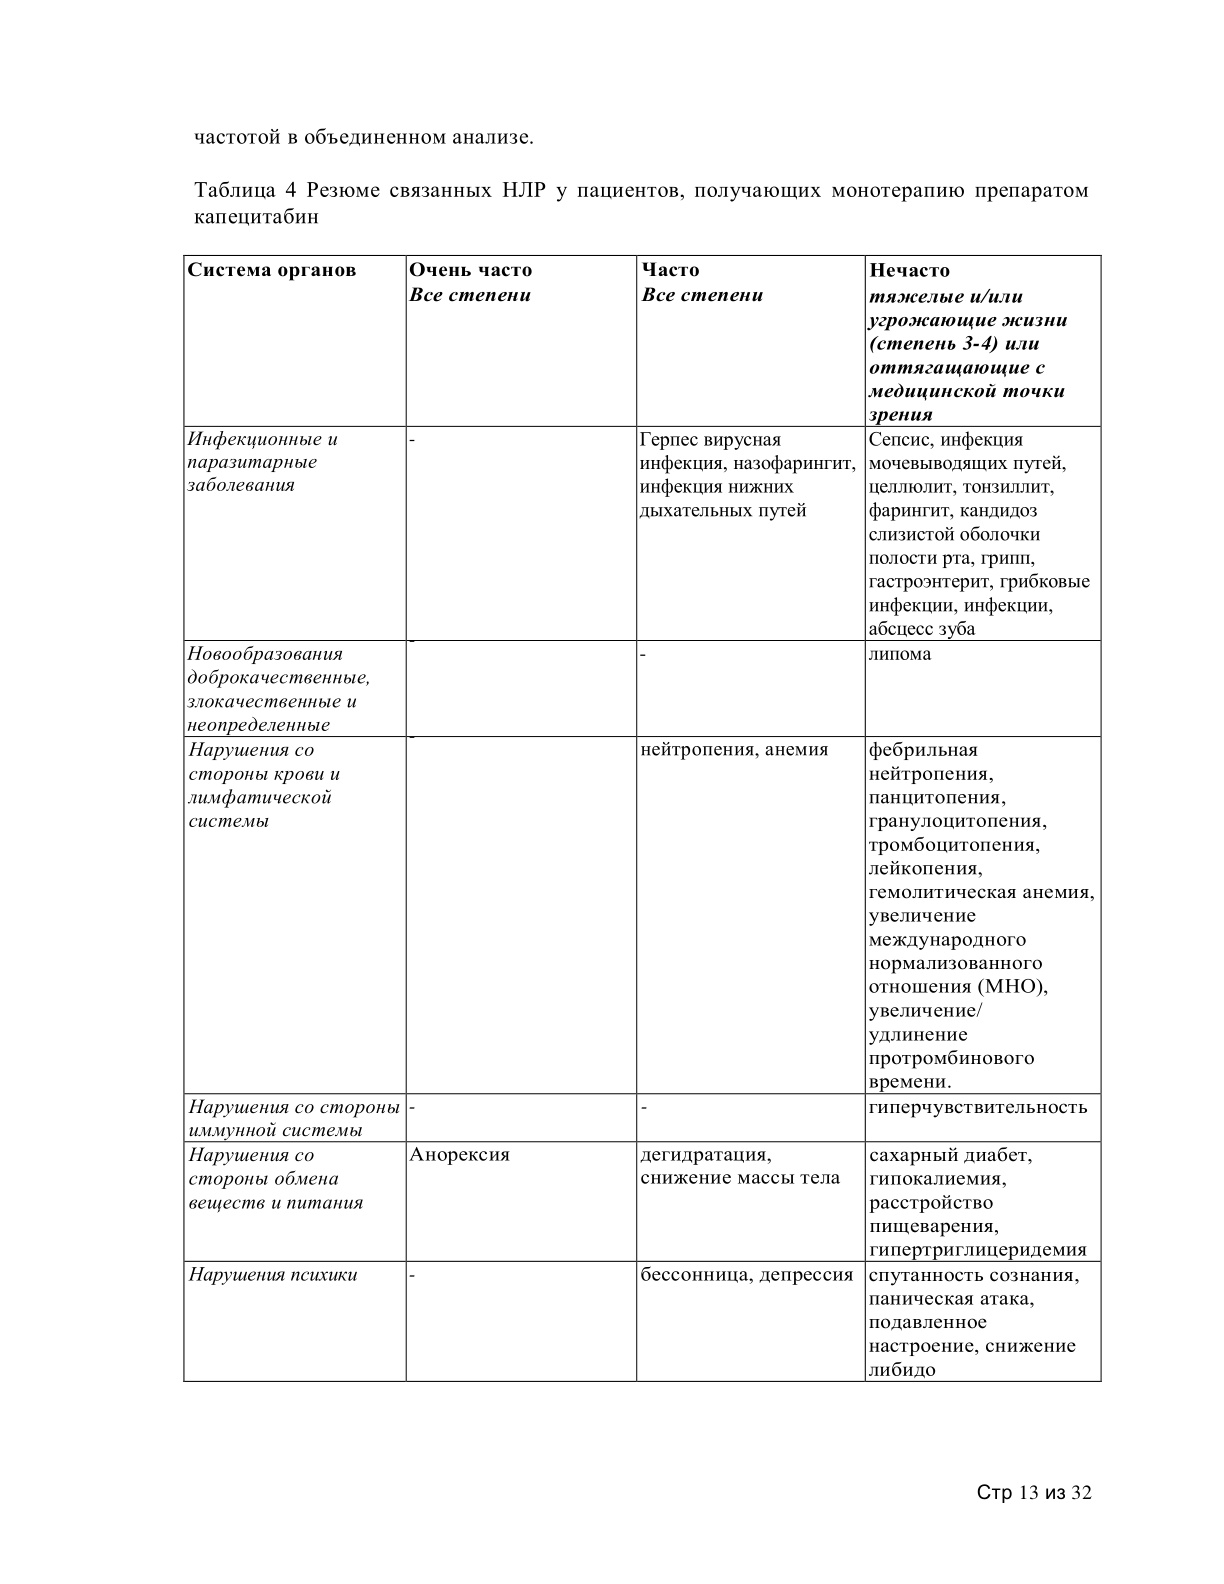full_lined: (183, 253, 1102, 1383)
